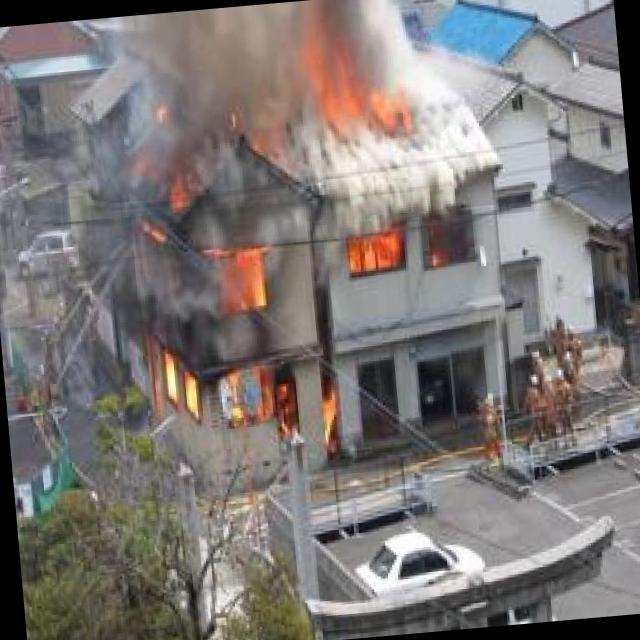Fire: (114, 142, 346, 472), (342, 228, 418, 278)
Smoke: (123, 0, 504, 242)
